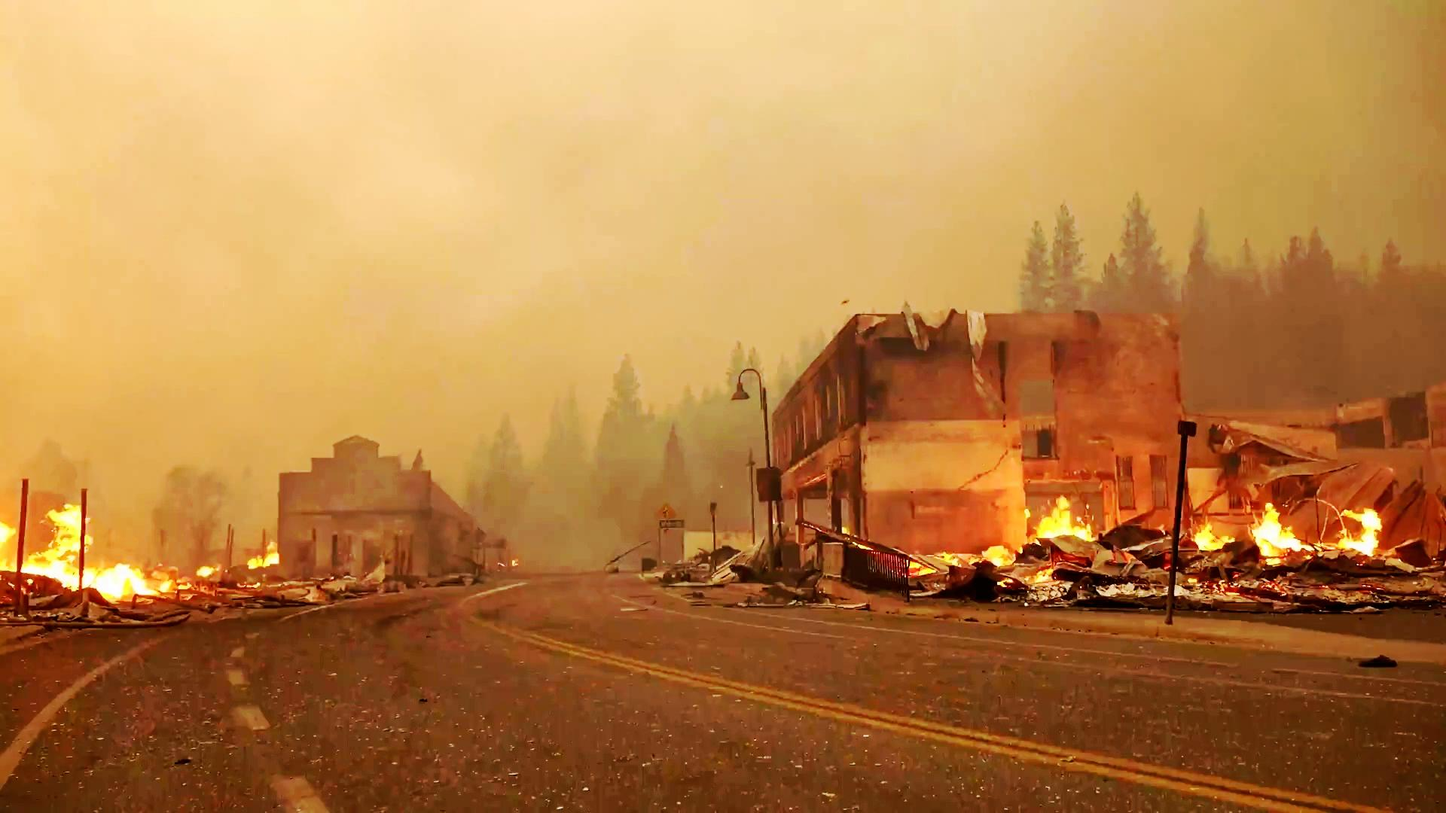fire: (34, 499, 147, 595), (1247, 503, 1385, 563)
